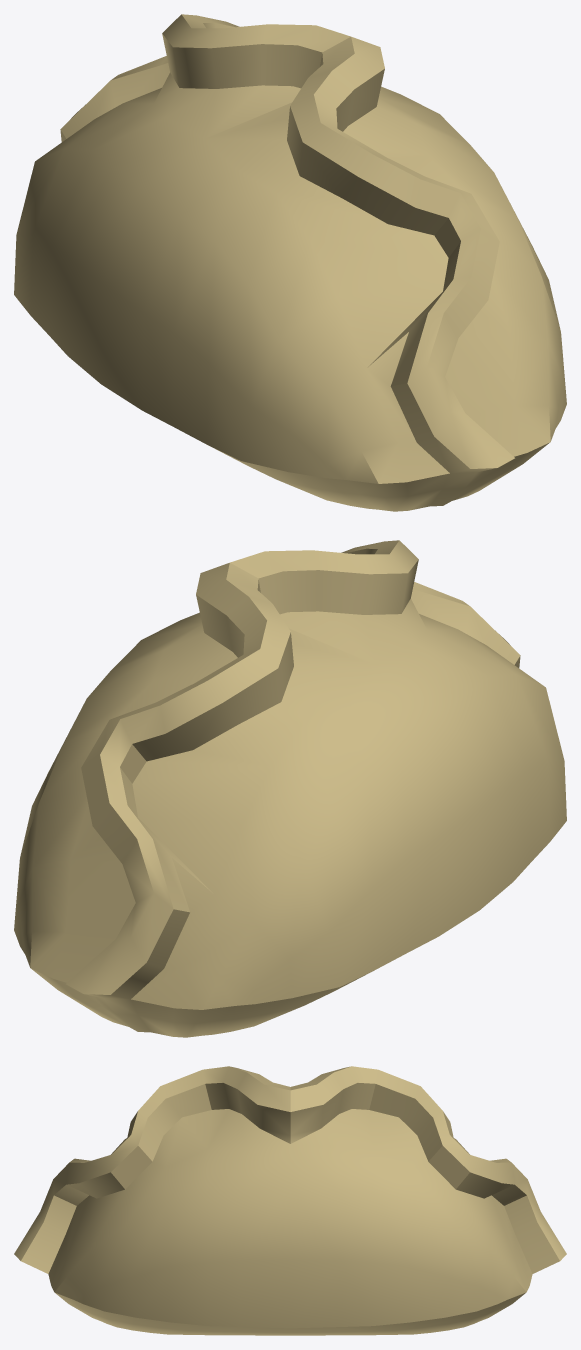
Rendered from Gyoza.fbx.
3 views of the same model, one above another, from view 1: azimuth 30°, elevation 25°; view 2: azimuth 150°, elevation 25°; view 3: azimuth 270°, elevation 25° (orthographic). The views are drawn at different scales.
Parts seen in each view (by area): view 1: Gyoza; view 2: Gyoza; view 3: Gyoza.
Part boxes in pixels (left/top/right/bottom): Gyoza: left=14, top=14, right=566, bottom=511; Gyoza: left=14, top=540, right=566, bottom=1037; Gyoza: left=14, top=1066, right=566, bottom=1335.
Size of the model in its own units: 29.69 by 25.88 by 55.11.
